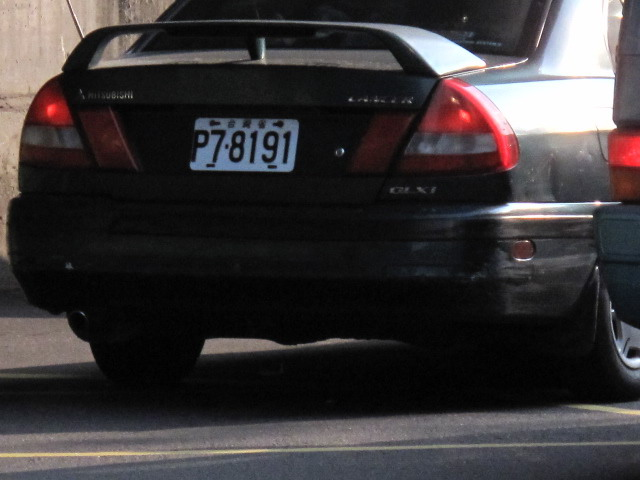plate: (186, 113, 301, 174)
